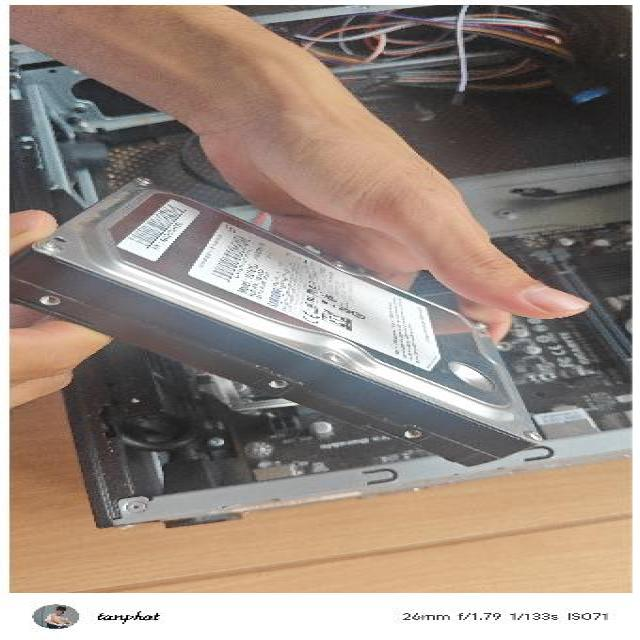DISK: (12, 173, 547, 468)
